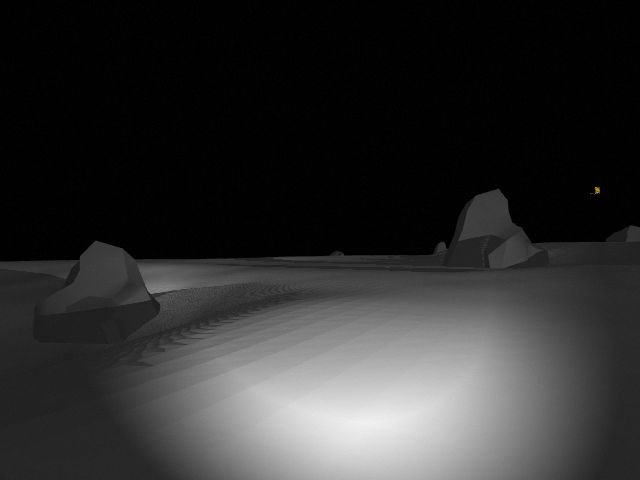cubesat: (591, 186, 601, 198)
